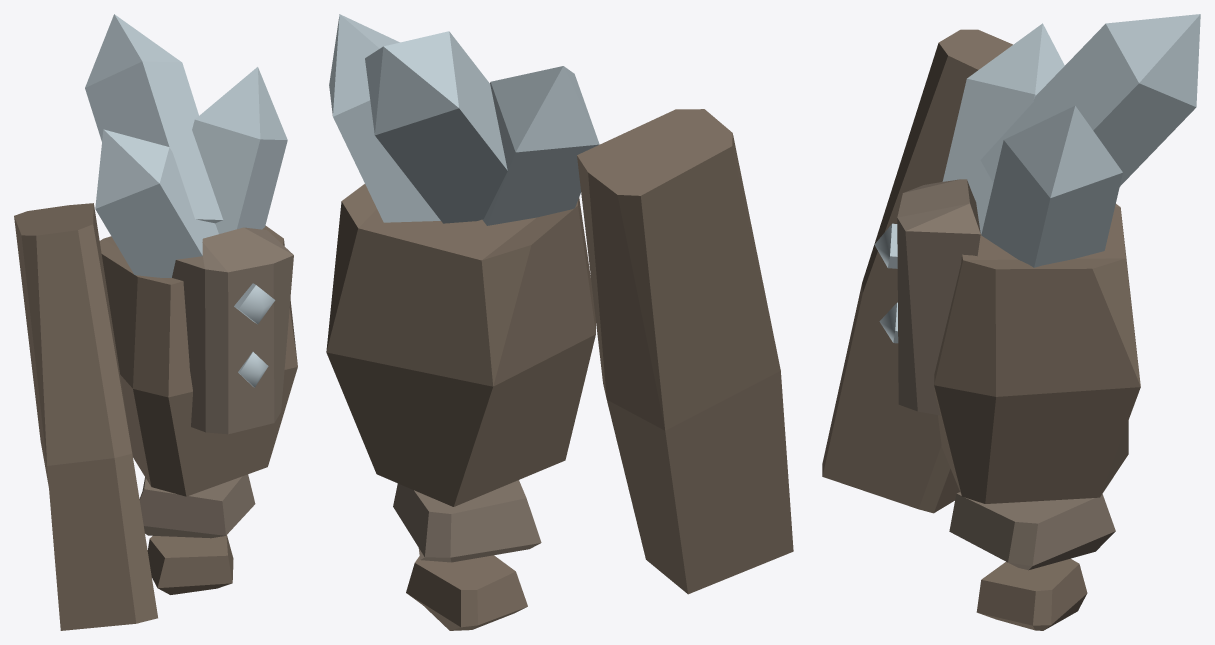
Rendered from mesh_melee.fbx.
The picture shows the model from 3 angles, left to right: view 1: azimuth 30°, elevation 25°; view 2: azimuth 150°, elevation 25°; view 3: azimuth 270°, elevation 25°; orthographic projection. The views are drawn at different scales.
Visible parts, largest first — view 1: arm, body, head, crystalCenter, crystalRight, crystalLeft, body1, body2, topEye, bottomEye; view 2: arm, body, crystalCenter, crystalRight, crystalLeft, body1, body2; view 3: body, arm, crystalCenter, crystalLeft, head, crystalRight, body1, body2, topEye.
Part boxes in pixels (<box>): arm: <box>14,203,157,630</box>; body: <box>99,225,297,496</box>; head: <box>172,227,293,434</box>; crystalCenter: <box>85,14,223,223</box>; crystalRight: <box>95,129,218,277</box>; crystalLeft: <box>192,67,287,233</box>; body1: <box>139,474,255,538</box>; body2: <box>147,535,233,594</box>; topEye: <box>234,283,275,324</box>; bottomEye: <box>238,351,268,387</box>; arm: <box>577,109,793,594</box>; body: <box>326,184,595,506</box>; crystalCenter: <box>365,31,507,223</box>; crystalRight: <box>482,66,599,225</box>; crystalLeft: <box>329,14,440,222</box>; body1: <box>393,480,541,562</box>; body2: <box>406,555,527,630</box>; body: <box>934,204,1140,503</box>; arm: <box>822,29,1012,513</box>; crystalCenter: <box>980,14,1200,186</box>; crystalLeft: <box>981,105,1122,267</box>; head: <box>897,179,980,415</box>; crystalRight: <box>942,23,1064,233</box>; body1: <box>949,492,1115,570</box>; body2: <box>976,558,1087,630</box>; topEye: <box>874,223,897,268</box>.
Size of the model in its own units: 1181 by 1910 by 1094.
